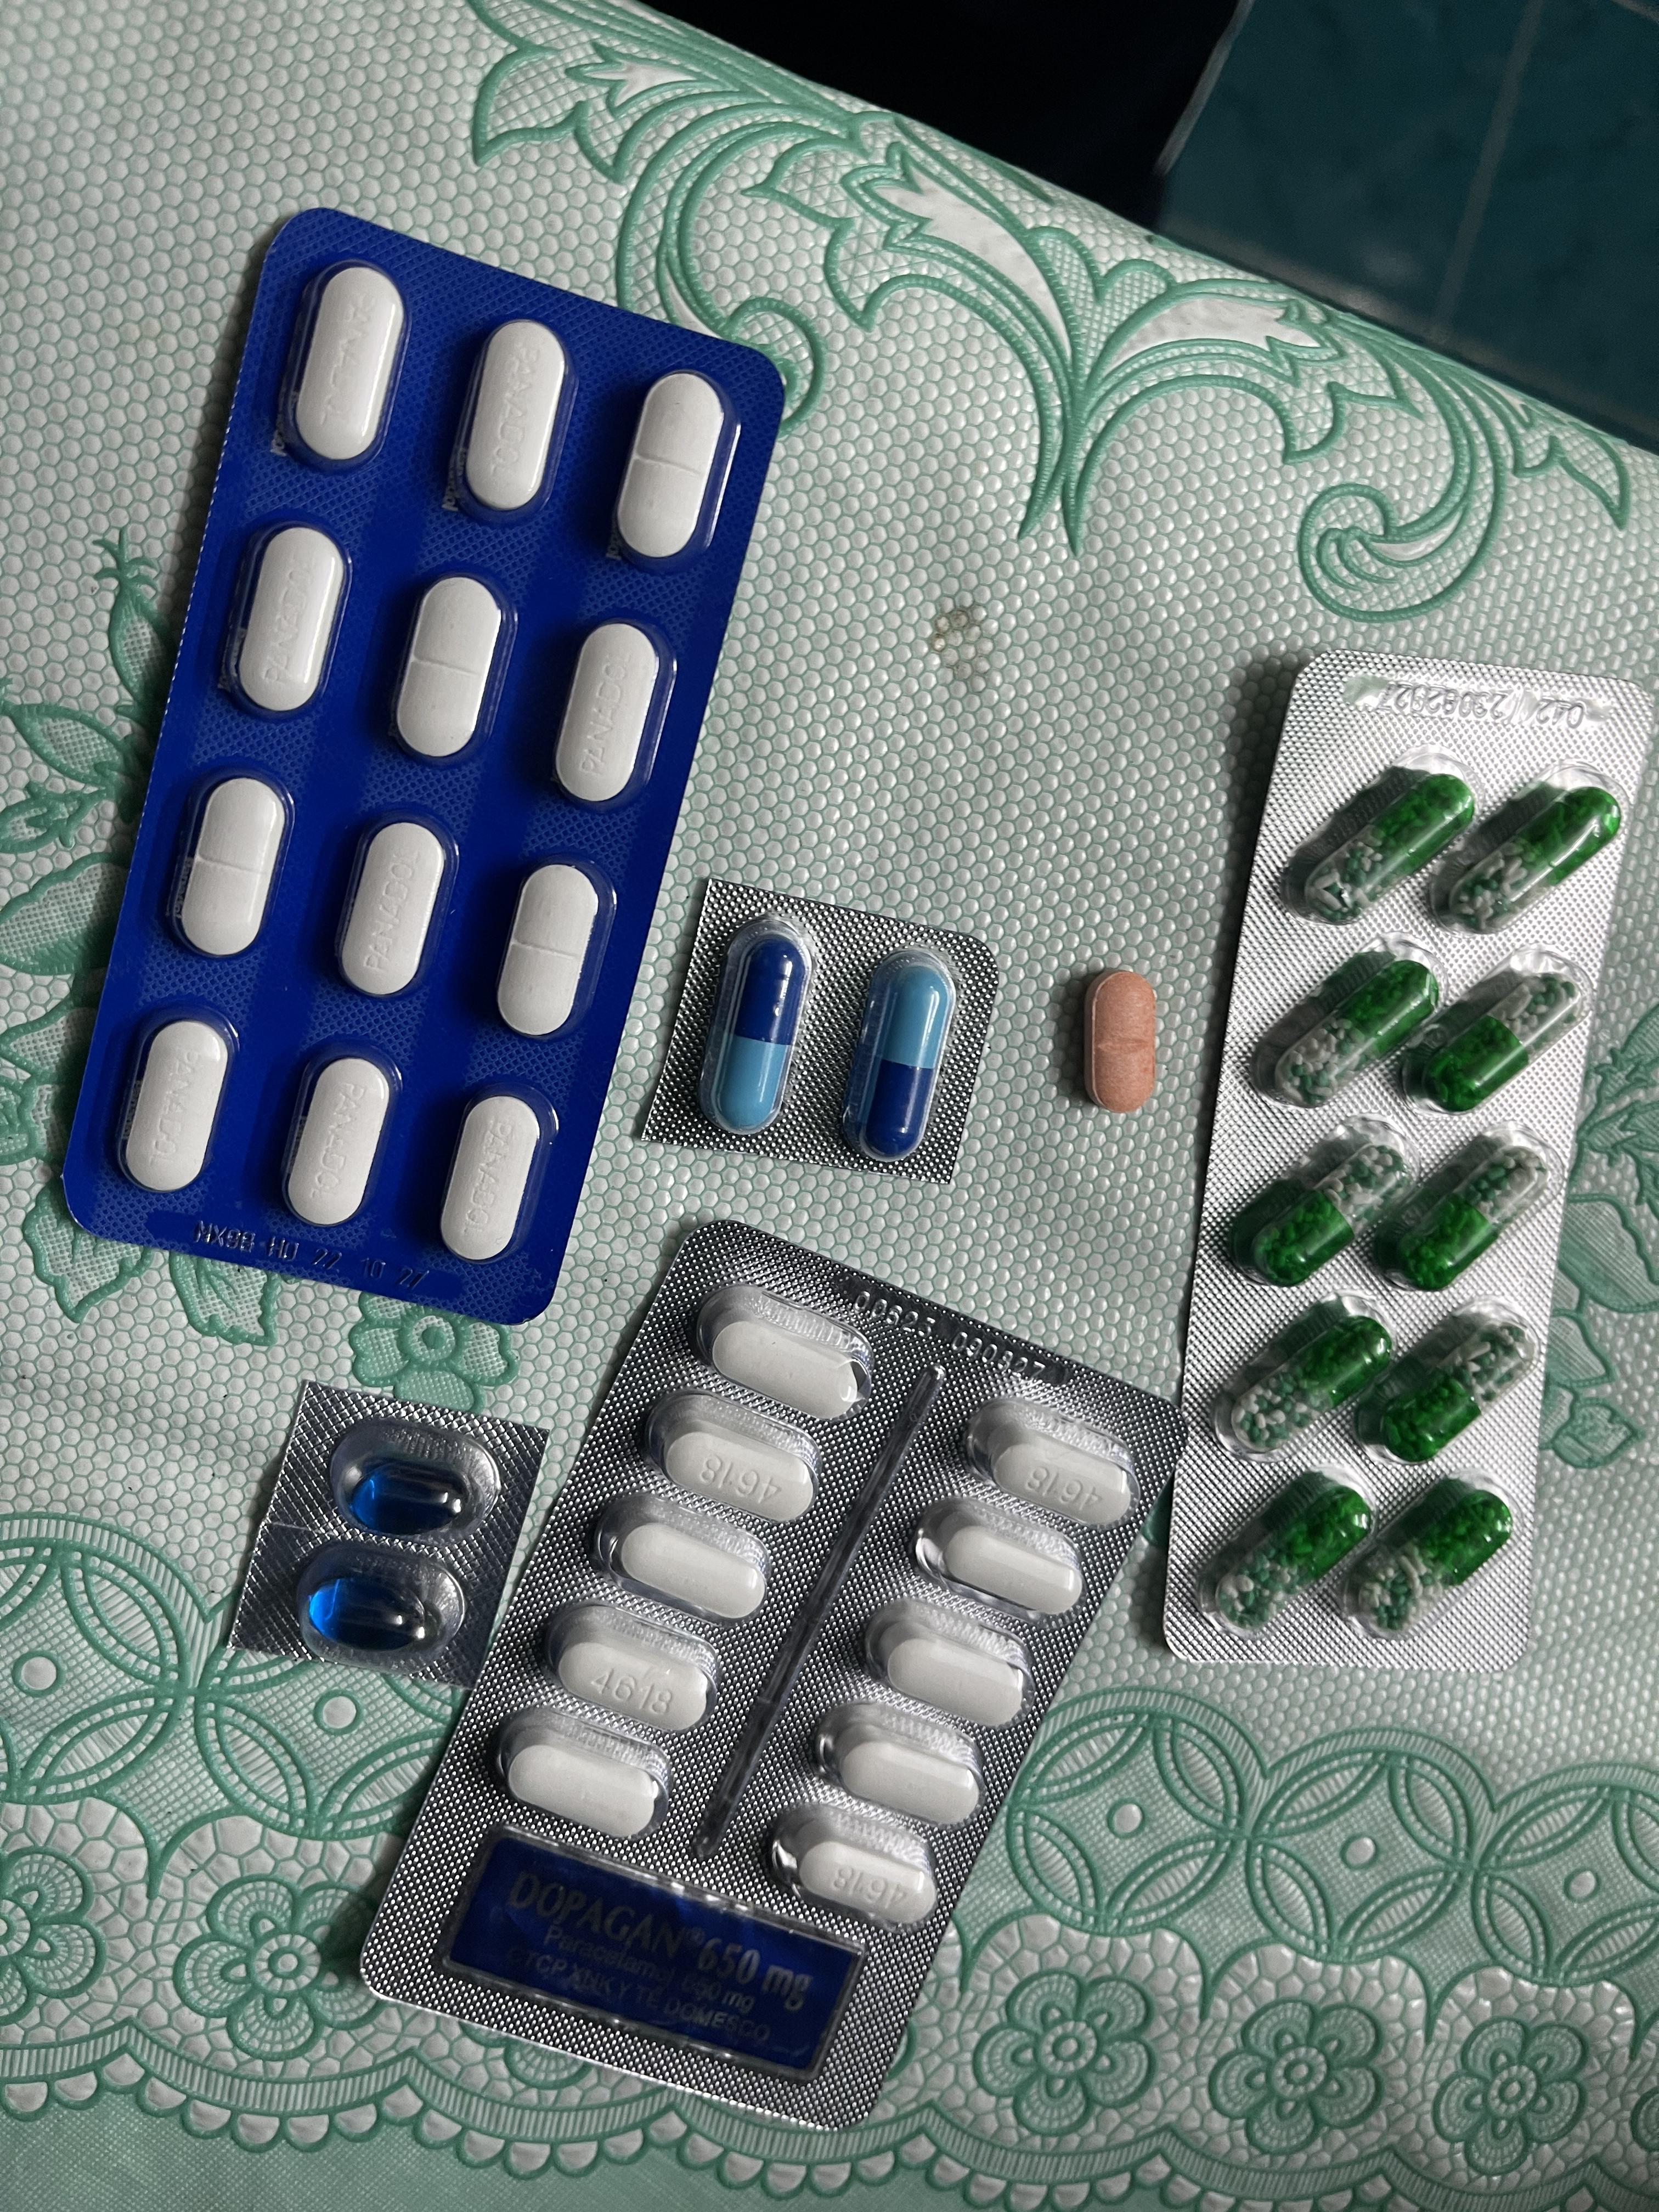Lincomyxin_500mg: (307, 1576, 423, 1651), (347, 1465, 465, 1536)
Loratadine_10mg: (1082, 970, 1154, 1115)
Paracetamol_350mg: (220, 526, 349, 728), (286, 261, 408, 470), (453, 322, 572, 523), (613, 373, 732, 571), (389, 573, 509, 768), (115, 1007, 237, 1193), (333, 813, 455, 998), (551, 622, 667, 813), (174, 772, 291, 960), (439, 1083, 556, 1263), (284, 1055, 397, 1231), (498, 862, 608, 1036)
Paracetamol_500mg: (650, 1393, 823, 1522), (920, 1494, 1087, 1618), (706, 1317, 863, 1421), (504, 1740, 662, 1839), (617, 1524, 767, 1620), (880, 1634, 1028, 1730), (831, 1738, 981, 1827), (791, 1836, 934, 1928), (559, 1642, 704, 1733), (1000, 1444, 1124, 1524)
Paracetamol_650mg: (1295, 761, 1469, 923), (1359, 1299, 1535, 1460), (1274, 954, 1439, 1113), (1389, 1130, 1553, 1287), (1412, 967, 1584, 1113), (1452, 786, 1621, 932), (1251, 1139, 1408, 1287), (1216, 1475, 1368, 1627), (1230, 1312, 1392, 1453), (1354, 1486, 1509, 1630)
pill: (695, 911, 819, 1136), (843, 944, 965, 1160)
